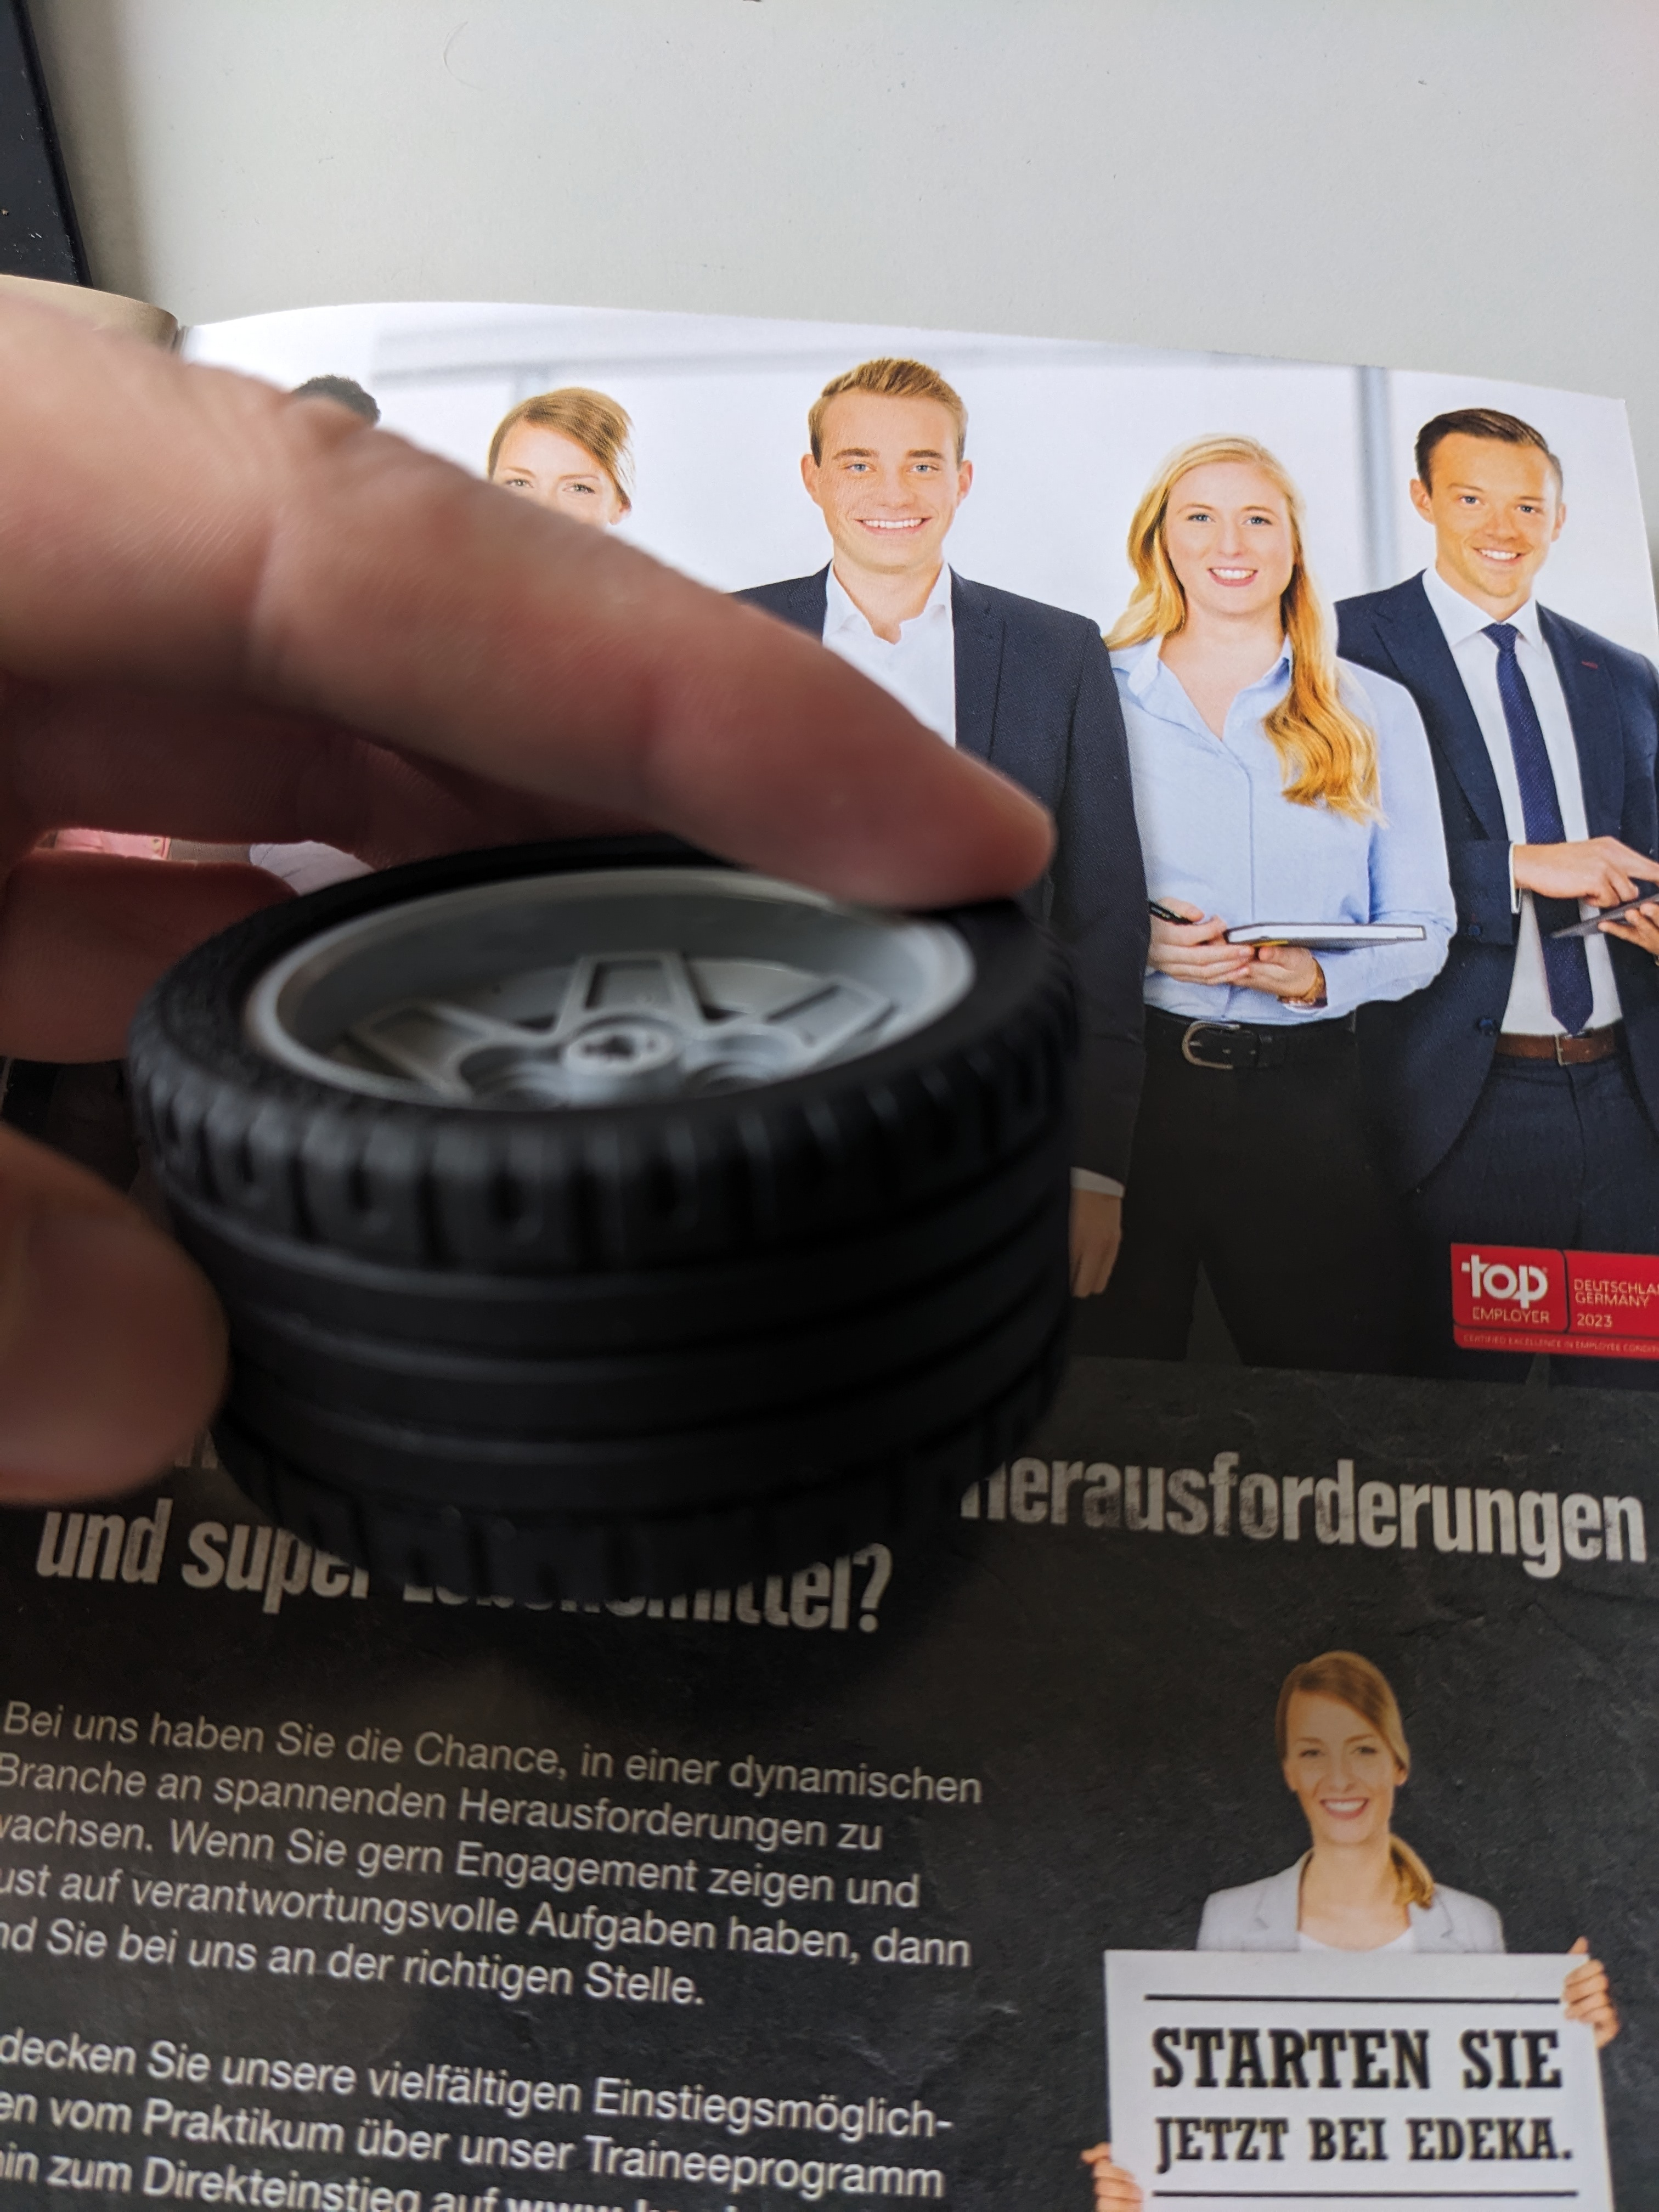Rad: (110, 812, 1114, 1622)
